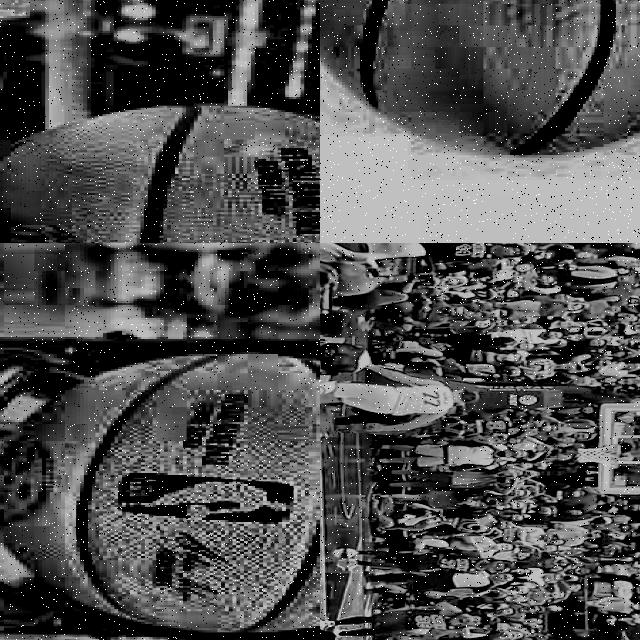Basketball: (0, 354, 320, 635), (0, 106, 320, 243)
